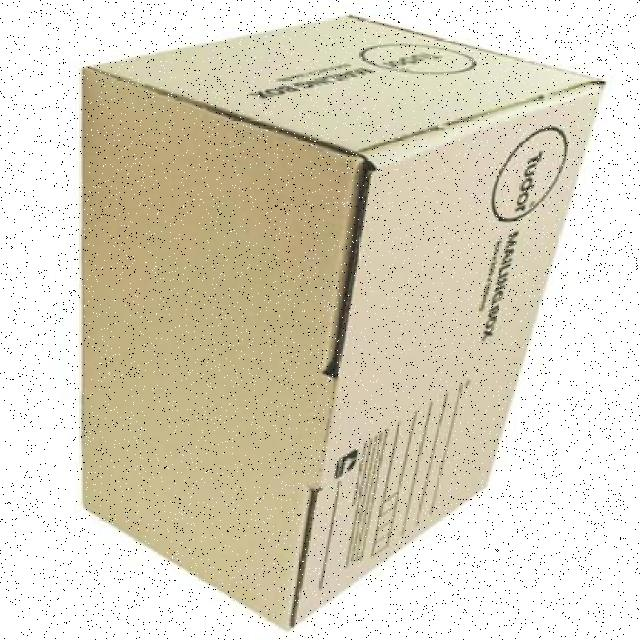normal: (73, 8, 604, 628)
